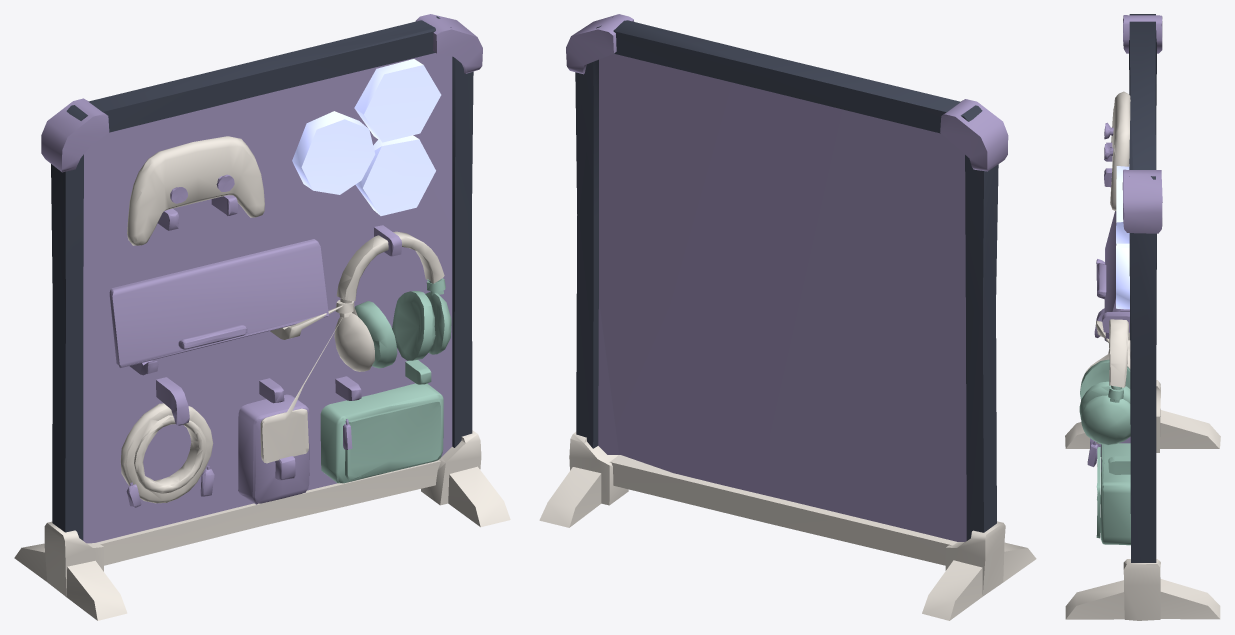
The model's file is gaming_organizer.glb.
3 renders of one model, left to right at view 1: azimuth 30°, elevation 25°; view 2: azimuth 150°, elevation 25°; view 3: azimuth 270°, elevation 25°, orthographic. The views are drawn at different scales.
Size of the model in its own units: 1.65 by 1.77 by 0.5789.
